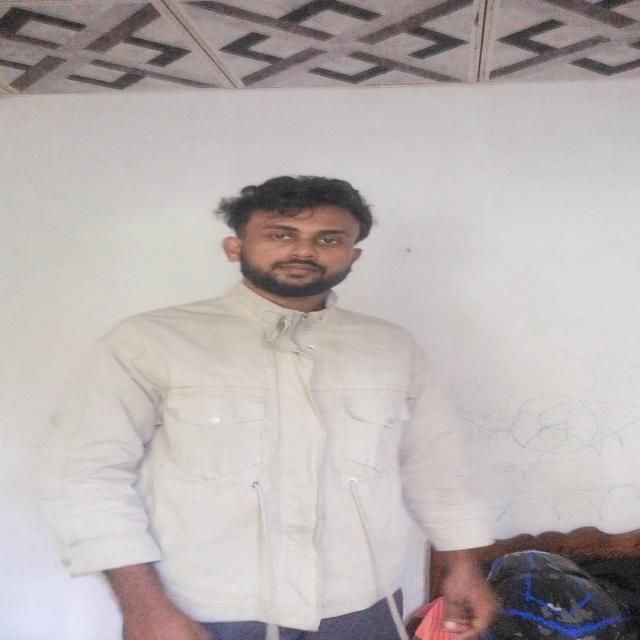Jacket_Wearer: (67, 273, 490, 625)
Person: (71, 171, 493, 640)
